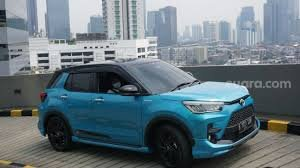mobil: (39, 56, 263, 165)
